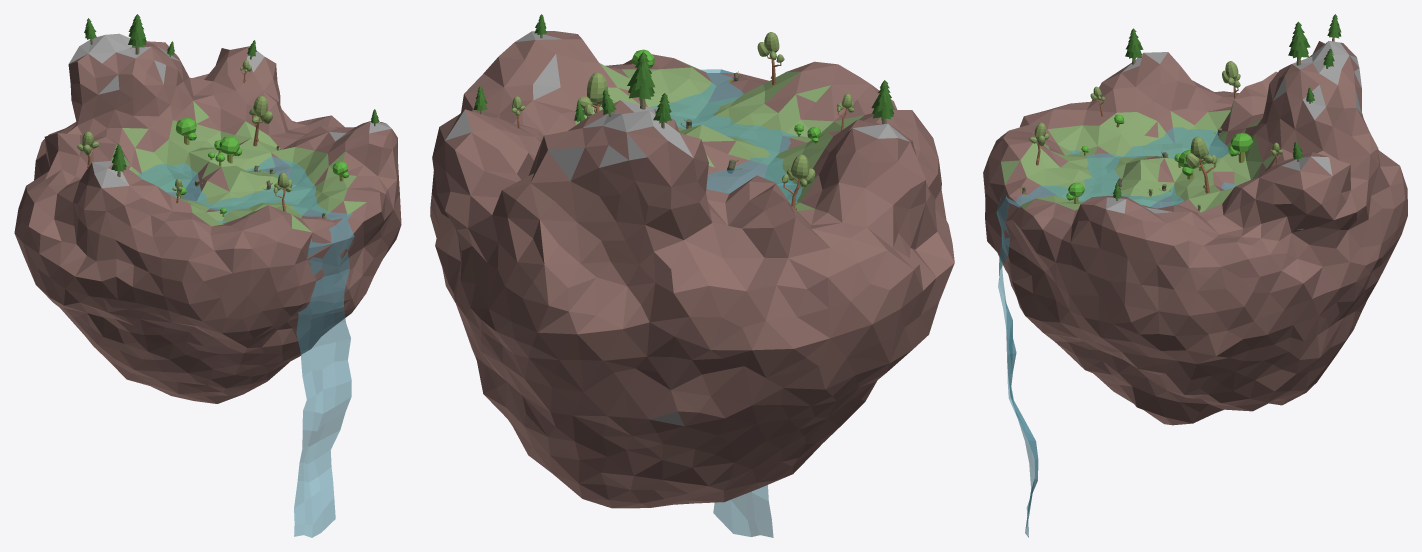
File: island#2.fbx
3 views of the same model, side by side, from view 1: azimuth 30°, elevation 25°; view 2: azimuth 150°, elevation 25°; view 3: azimuth 270°, elevation 25° (orthographic). The views are drawn at different scales.
Visible parts, largest first — view 1: pCylinder27; view 2: pCylinder27; view 3: pCylinder27.
Boxes of the visible parts, x1=… form: pCylinder27: x1=14, y1=14, x2=401, y2=537; pCylinder27: x1=430, y1=14, x2=954, y2=537; pCylinder27: x1=983, y1=14, x2=1407, y2=537.
Size of the model in its own units: 20.3 by 25.5 by 20.23.
